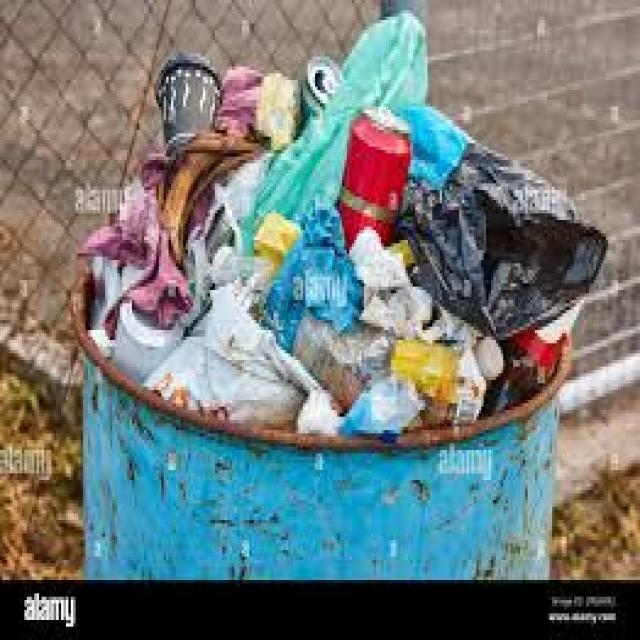Foam Paper: (145, 247, 340, 434), (214, 152, 271, 248)
Garbage: (78, 10, 608, 436)
Plastic: (396, 107, 608, 340), (241, 12, 428, 252), (265, 205, 362, 351), (156, 53, 220, 154), (481, 341, 549, 415)
Plastic_bottle: (421, 307, 504, 422), (358, 339, 459, 403)
Tetrapack: (349, 227, 415, 303), (254, 213, 301, 269)
Thermocol: (360, 285, 440, 338)
can: (339, 106, 411, 246), (295, 55, 342, 136), (509, 319, 564, 384)
